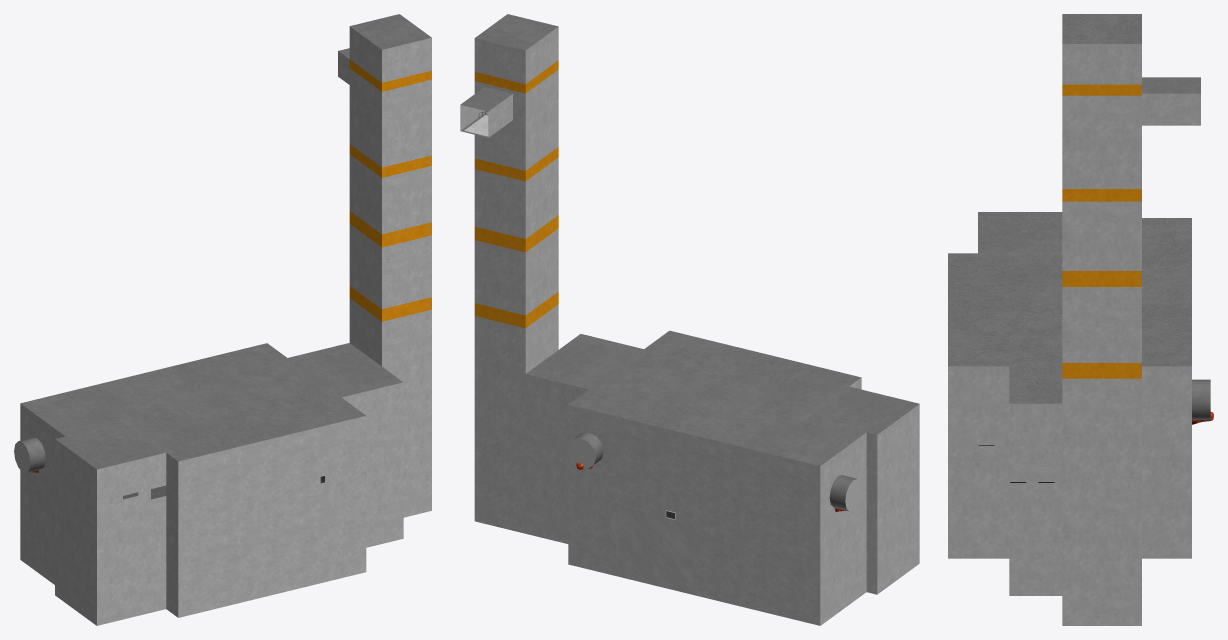
File: Room_18.fbx
The picture shows the model from 3 angles, left to right: view 1: azimuth 30°, elevation 25°; view 2: azimuth 150°, elevation 25°; view 3: azimuth 270°, elevation 25°; orthographic projection. The views are drawn at different scales.
Parts seen in each view (by area): view 1: Cube.100, Cube.185; view 2: Cube.100, Cube.185, Cube.101; view 3: Cube.100, Cube.185.
Boxes of the visible parts, x1=… form: Cube.100: x1=14, y1=26, x2=431, y2=625; Cube.185: x1=20, y1=14, x2=431, y2=469; Cube.100: x1=460, y1=27, x2=919, y2=625; Cube.185: x1=460, y1=14, x2=919, y2=466; Cube.101: x1=611, y1=504, x2=694, y2=595; Cube.100: x1=948, y1=44, x2=1210, y2=625; Cube.185: x1=948, y1=14, x2=1200, y2=403.
Bounding box in the file's own units: 8857 × 10698 × 4430.
